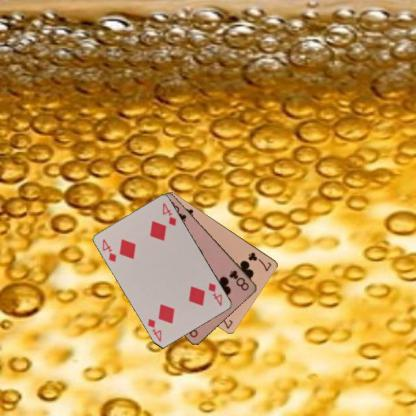4d: (206, 280, 224, 308), (100, 236, 118, 264)
7c: (245, 250, 272, 272)
8c: (227, 266, 250, 292)
